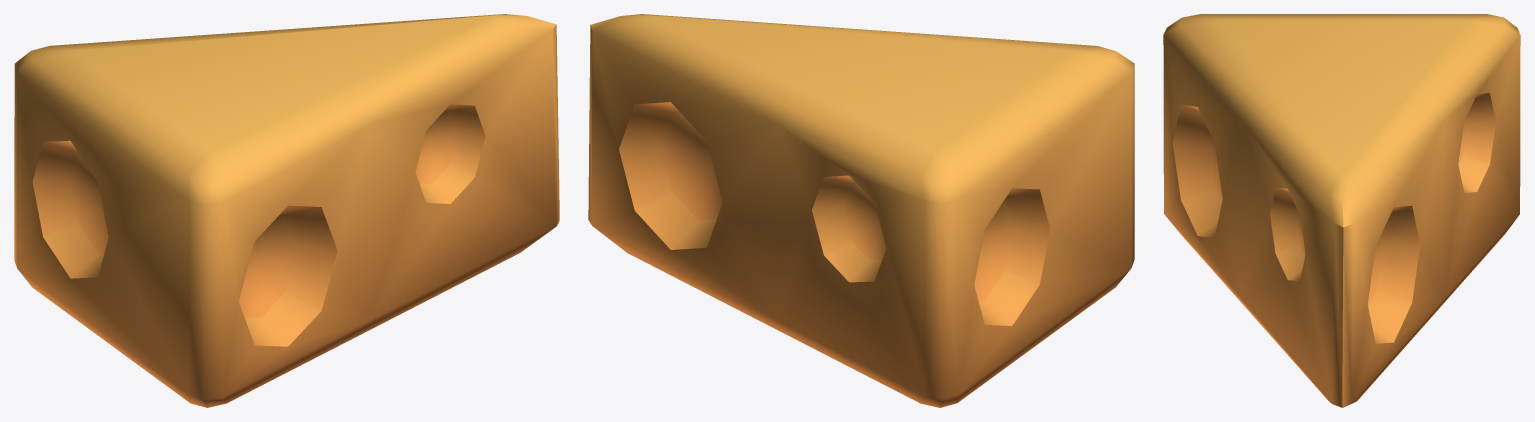
The model's file is food_ingredient_cheese.obj.
3 renders of one model, left to right at view 1: azimuth 30°, elevation 25°; view 2: azimuth 150°, elevation 25°; view 3: azimuth 270°, elevation 25°, orthographic. The views are drawn at different scales.
Visible parts, largest first — view 1: food_ingredient_cheese_Cube.009; view 2: food_ingredient_cheese_Cube.009; view 3: food_ingredient_cheese_Cube.009.
Boxes of the visible parts, x1,y1,x2,y2 form: food_ingredient_cheese_Cube.009: (14,14,559,407); food_ingredient_cheese_Cube.009: (588,14,1134,407); food_ingredient_cheese_Cube.009: (1163,14,1520,407).
Bounding box in the file's own units: 0.9766 × 0.5 × 0.722.
Materials: 1 (1 with a texture image).
